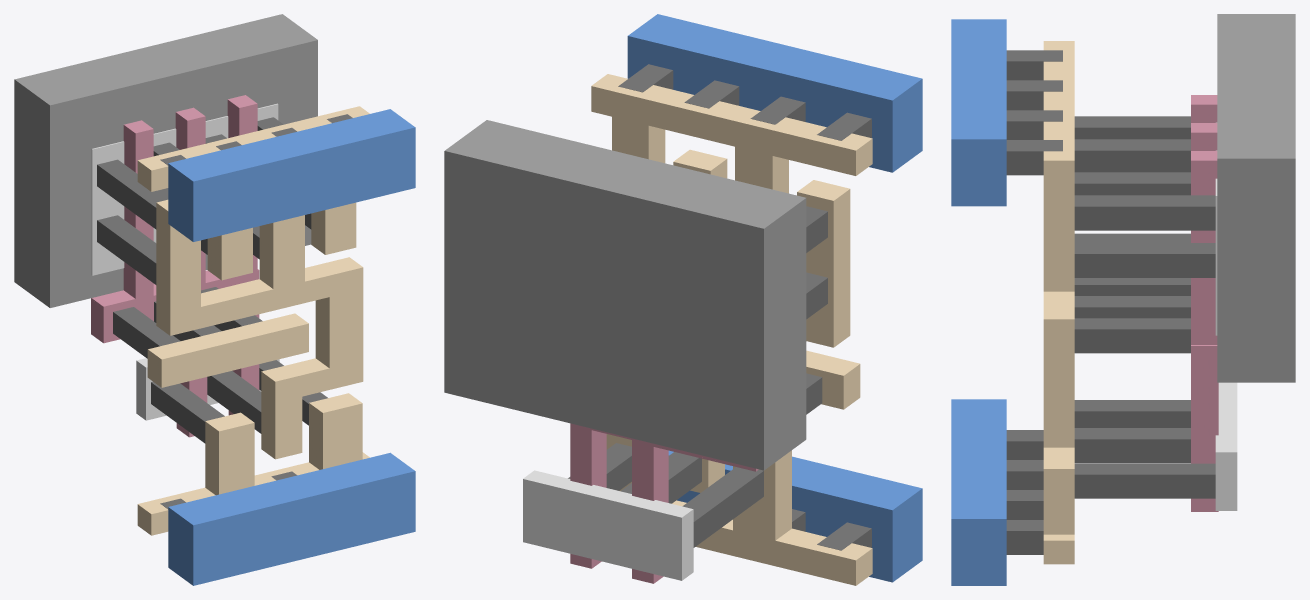
File: sky130_fd_sc_hd__clkinv_2.gds.gltf
3 renders of one model, left to right at view 1: azimuth 30°, elevation 25°; view 2: azimuth 150°, elevation 25°; view 3: azimuth 270°, elevation 25°, orthographic. The views are drawn at different scales.
Visible parts, largest first — view 1: sky130_fd_sc_hd__clkinv_2_li1, sky130_fd_sc_hd__clkinv_2_met1, sky130_fd_sc_hd__clkinv_2_nwell, sky130_fd_sc_hd__clkinv_2_licon, sky130_fd_sc_hd__clkinv_2_poly, sky130_fd_sc_hd__clkinv_2_diff, sky130_fd_sc_hd__clkinv_2_mcon; view 2: sky130_fd_sc_hd__clkinv_2_nwell, sky130_fd_sc_hd__clkinv_2_li1, sky130_fd_sc_hd__clkinv_2_met1, sky130_fd_sc_hd__clkinv_2_diff, sky130_fd_sc_hd__clkinv_2_licon, sky130_fd_sc_hd__clkinv_2_poly, sky130_fd_sc_hd__clkinv_2_mcon; view 3: sky130_fd_sc_hd__clkinv_2_licon, sky130_fd_sc_hd__clkinv_2_nwell, sky130_fd_sc_hd__clkinv_2_met1, sky130_fd_sc_hd__clkinv_2_li1, sky130_fd_sc_hd__clkinv_2_mcon, sky130_fd_sc_hd__clkinv_2_poly, sky130_fd_sc_hd__clkinv_2_diff.
Boxes of the visible parts, <box> form: sky130_fd_sc_hd__clkinv_2_li1: <box>137,106,369,535</box>; sky130_fd_sc_hd__clkinv_2_met1: <box>168,109,415,585</box>; sky130_fd_sc_hd__clkinv_2_nwell: <box>14,14,317,307</box>; sky130_fd_sc_hd__clkinv_2_licon: <box>97,117,327,443</box>; sky130_fd_sc_hd__clkinv_2_poly: <box>91,95,259,437</box>; sky130_fd_sc_hd__clkinv_2_diff: <box>91,103,279,420</box>; sky130_fd_sc_hd__clkinv_2_mcon: <box>160,114,352,509</box>; sky130_fd_sc_hd__clkinv_2_nwell: <box>444,120,806,470</box>; sky130_fd_sc_hd__clkinv_2_li1: <box>591,74,872,585</box>; sky130_fd_sc_hd__clkinv_2_met1: <box>627,14,922,582</box>; sky130_fd_sc_hd__clkinv_2_diff: <box>523,470,693,580</box>; sky130_fd_sc_hd__clkinv_2_licon: <box>568,206,827,547</box>; sky130_fd_sc_hd__clkinv_2_poly: <box>570,423,758,583</box>; sky130_fd_sc_hd__clkinv_2_mcon: <box>618,64,871,550</box>; sky130_fd_sc_hd__clkinv_2_licon: <box>1074,116,1215,498</box>; sky130_fd_sc_hd__clkinv_2_nwell: <box>1217,14,1295,382</box>; sky130_fd_sc_hd__clkinv_2_met1: <box>951,19,1006,585</box>; sky130_fd_sc_hd__clkinv_2_li1: <box>1043,41,1074,564</box>; sky130_fd_sc_hd__clkinv_2_mcon: <box>1006,50,1062,554</box>; sky130_fd_sc_hd__clkinv_2_poly: <box>1191,95,1218,511</box>; sky130_fd_sc_hd__clkinv_2_diff: <box>1215,122,1237,510</box>.
Bounding box in the file's own units: 2.22 × 3.2 × 2.24.
